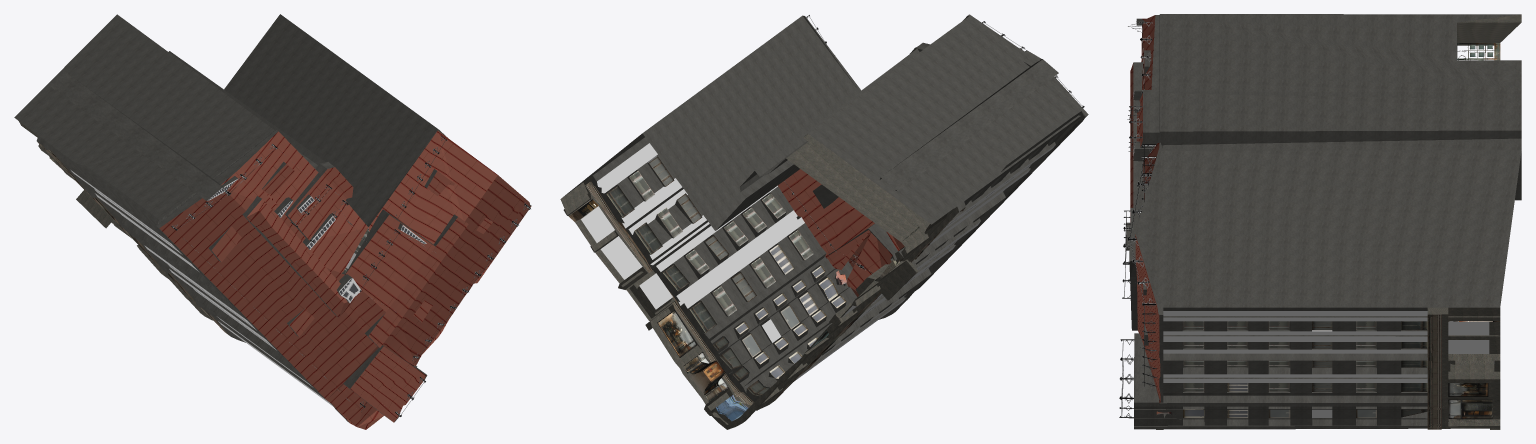
The model's file is Parnu_mnt_8_1-origo.obj.
The picture shows the model from 3 angles, left to right: view 1: azimuth 30°, elevation 25°; view 2: azimuth 150°, elevation 25°; view 3: azimuth 270°, elevation 25°; orthographic projection. The views are drawn at different scales.
Visible parts, largest first — view 1: Parnu_mnt_8_1; view 2: Parnu_mnt_8_1; view 3: Parnu_mnt_8_1.
Part boxes in pixels (<box>): Parnu_mnt_8_1: <box>14,14,531,429</box>; Parnu_mnt_8_1: <box>560,14,1088,429</box>; Parnu_mnt_8_1: <box>1119,14,1521,429</box>.
Bounding box in the file's own units: 39.69 × 32.5 × 32.52.
